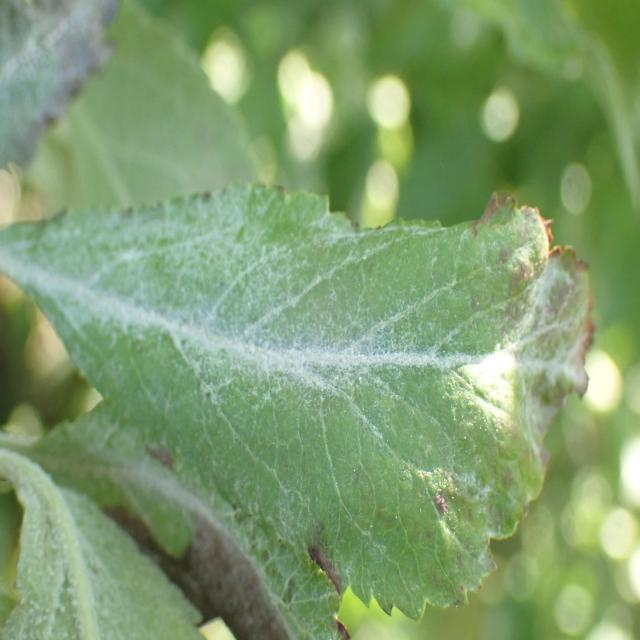Powdery_mildew: (5, 181, 595, 613), (0, 382, 339, 640), (0, 469, 207, 640), (0, 0, 142, 170)
